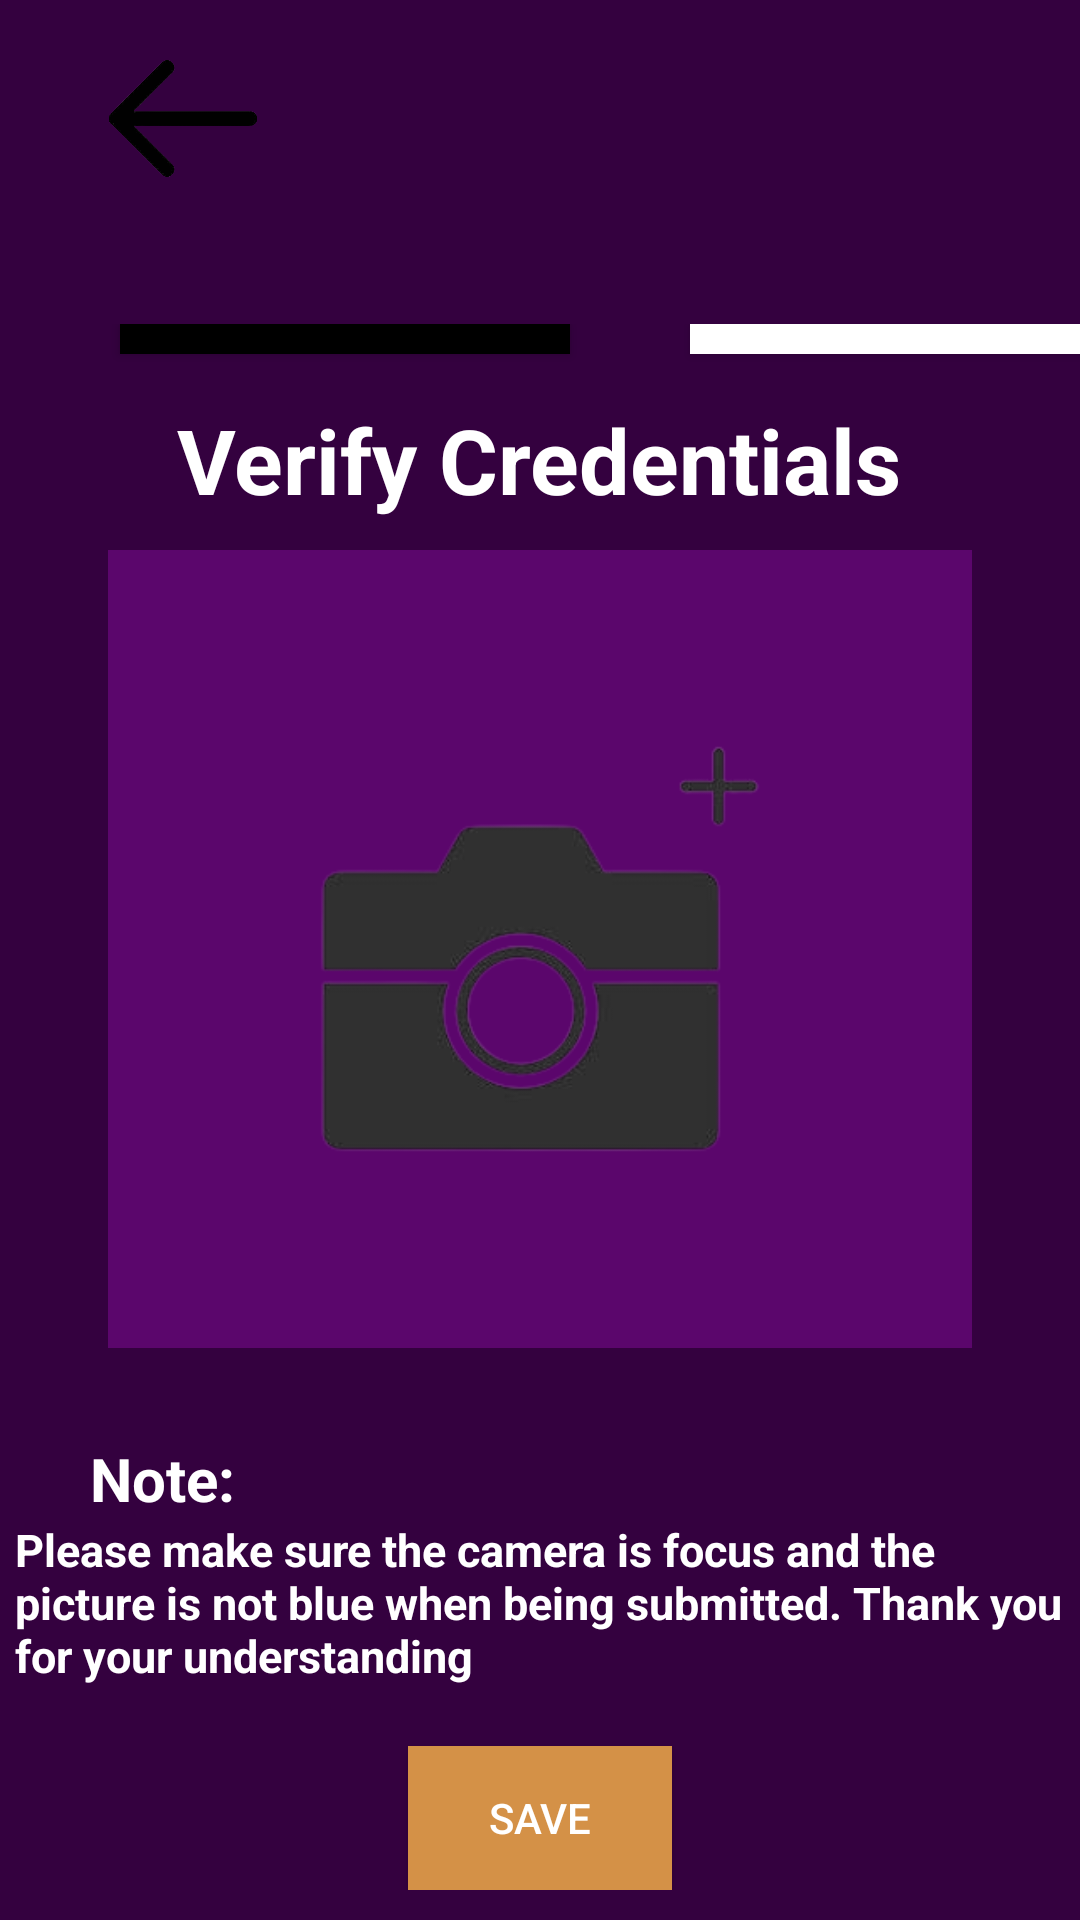

Named icons in this screenshot (1080 x 1920) and their bounding boxes, (left=x1, top=y1, right=x2, bottom=y2):
backarrow: (left=109, top=60, right=257, bottom=177)
